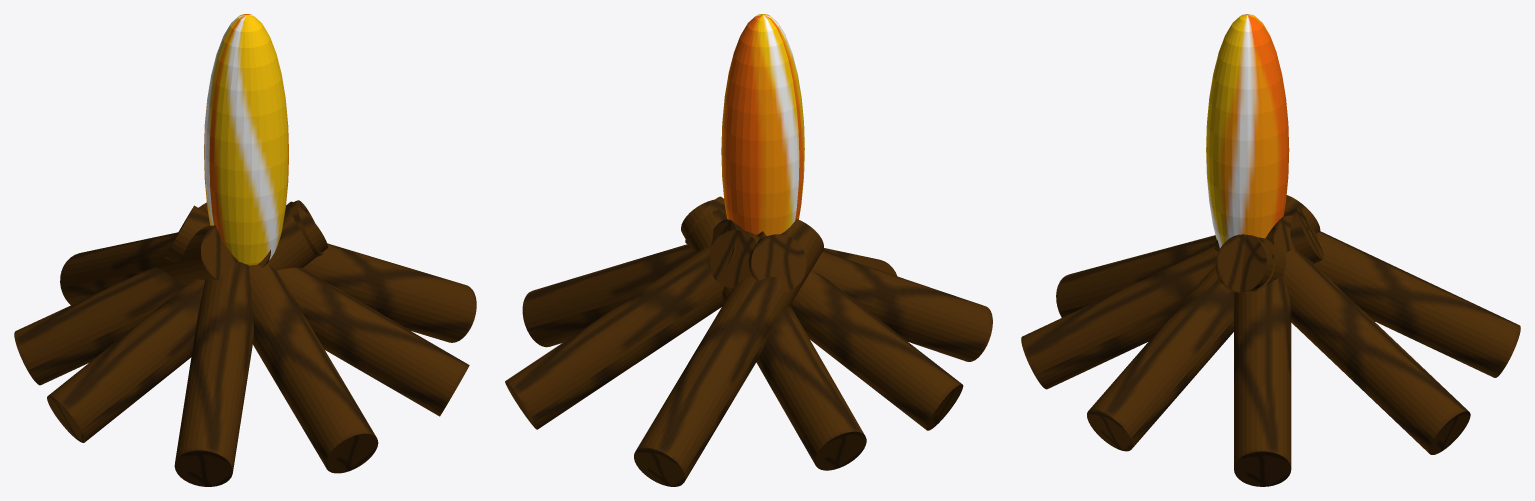
The model's file is ObjectLitCampfire.dae.
The picture shows the model from 3 angles, left to right: view 1: azimuth 30°, elevation 25°; view 2: azimuth 150°, elevation 25°; view 3: azimuth 270°, elevation 25°; orthographic projection. The views are drawn at different scales.
Visible parts, largest first — view 1: Sphere, Cylinder.006, Cylinder.003, Cylinder.004, Cylinder.005, Cylinder.002, Cylinder, Cylinder.001; view 2: Sphere, Cylinder.001, Cylinder.007, Cylinder.006, Cylinder.002, Cylinder.003, Cylinder, Cylinder.004, Cylinder.005; view 3: Sphere, Cylinder.007, Cylinder.001, Cylinder.004, Cylinder.005, Cylinder, Cylinder.003, Cylinder.002, Cylinder.006.
Boxes of the visible parts, x1,y1,x2,y2 form: Sphere: [204, 14, 288, 265]; Cylinder.006: [47, 201, 327, 442]; Cylinder.003: [174, 261, 253, 486]; Cylinder.004: [198, 202, 378, 473]; Cylinder.005: [164, 205, 469, 416]; Cylinder.002: [14, 200, 324, 385]; Cylinder: [303, 243, 476, 342]; Cylinder.001: [60, 225, 238, 304]; Sphere: [721, 14, 804, 235]; Cylinder.001: [634, 219, 823, 486]; Cylinder.007: [505, 245, 723, 429]; Cylinder.006: [685, 196, 963, 430]; Cylinder.002: [681, 199, 866, 470]; Cylinder.003: [711, 219, 992, 361]; Cylinder: [522, 231, 766, 347]; Cylinder.004: [708, 229, 896, 288]; Cylinder.005: [748, 234, 806, 291]; Sphere: [1206, 14, 1289, 248]; Cylinder.007: [1214, 239, 1470, 454]; Cylinder.001: [1314, 231, 1520, 377]; Cylinder.004: [1021, 207, 1323, 389]; Cylinder.005: [1087, 195, 1320, 451]; Cylinder: [1234, 211, 1291, 486]; Cylinder.003: [1056, 215, 1313, 317]; Cylinder.002: [1215, 234, 1375, 321]; Cylinder.006: [1217, 234, 1274, 293].
Bounding box in the file's own units: 3.41 × 3.55 × 2.93.
1 material, 1 textured.
